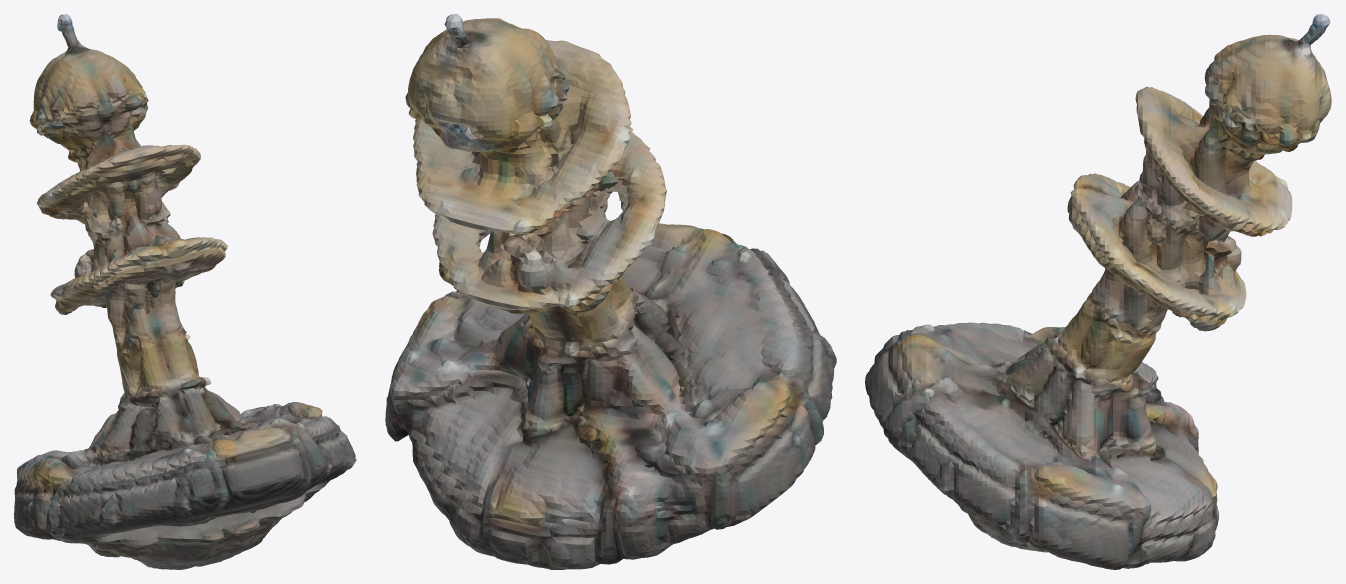
The model's file is lumen-tower.glb.
The picture shows the model from 3 angles, left to right: view 1: azimuth 30°, elevation 25°; view 2: azimuth 150°, elevation 25°; view 3: azimuth 270°, elevation 25°; orthographic projection. The views are drawn at different scales.
Parts seen in each view (by area): view 1: world; view 2: world; view 3: world.
Part boxes in pixels (x1=…): world: x1=14, y1=14, x2=356, y2=569; world: x1=385, y1=14, x2=836, y2=569; world: x1=865, y1=14, x2=1331, y2=569.
Bounding box in the file's own units: 0.5886 × 0.8353 × 0.6754.
